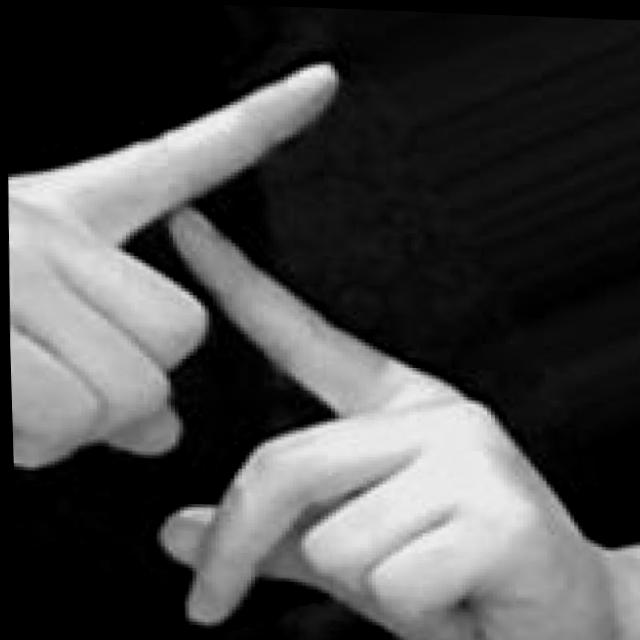T: (1, 38, 613, 640)
